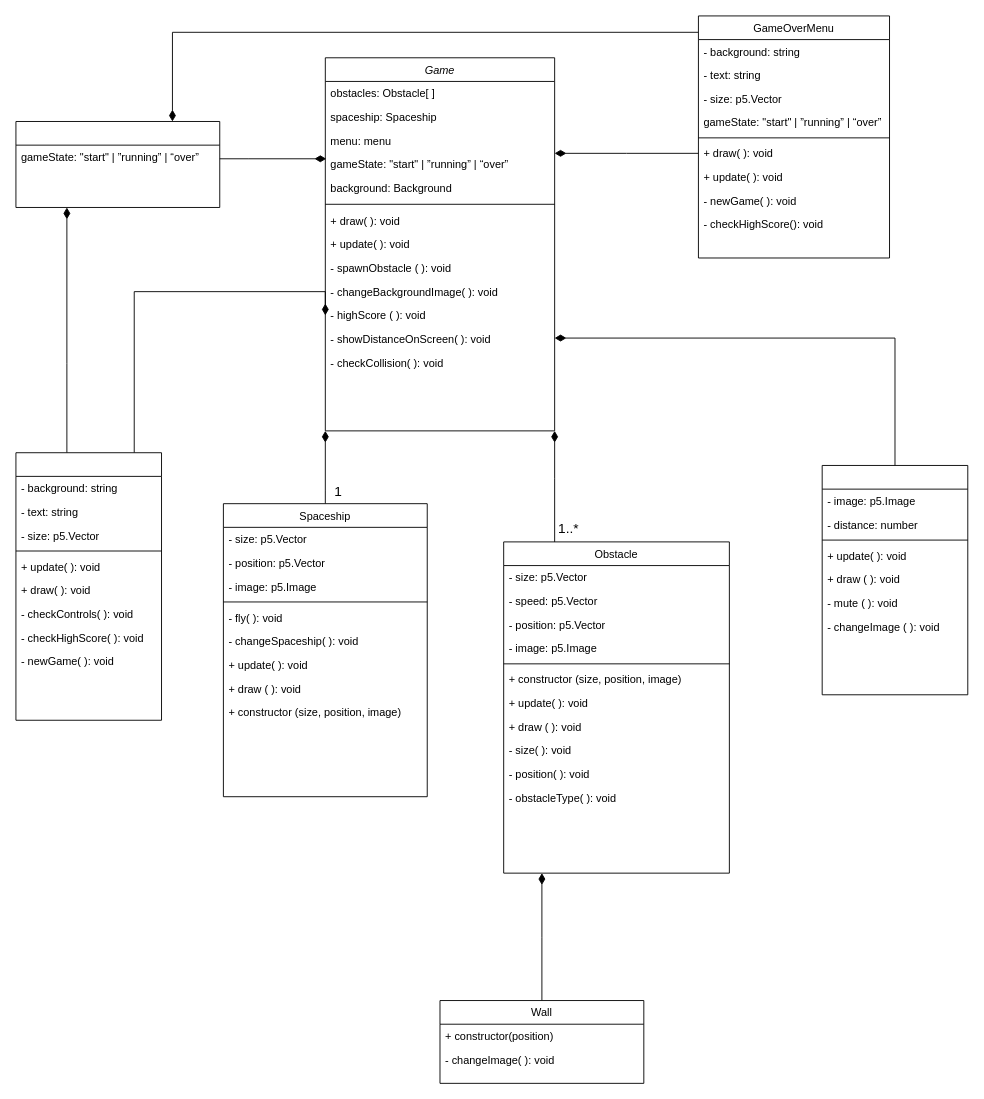
The diagram is 984 pixels wide and 1099 high, and some of its shapes have lost their labels. The shapes that lost their labels are listed below. From the top down, each one's box as (x1, y1, x2, y2) in pixels, then its label:
(15, 121, 220, 207): IGameState
(15, 452, 162, 720): Menu
(821, 465, 968, 695): Background
